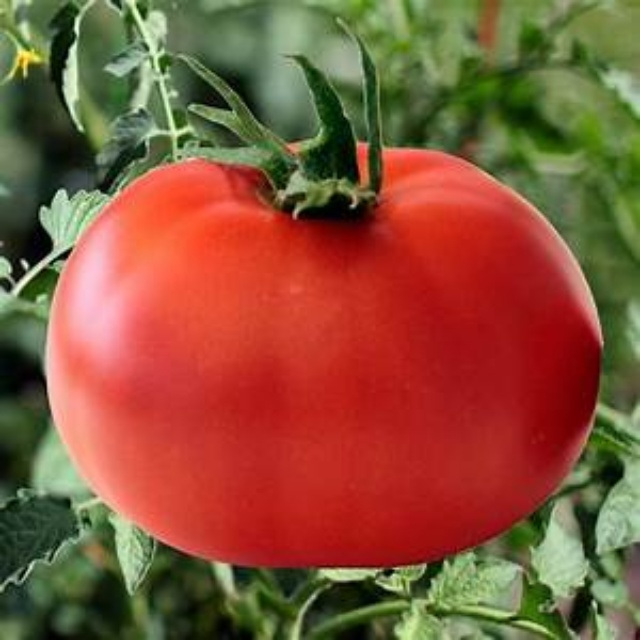tomato: (44, 132, 608, 567)
